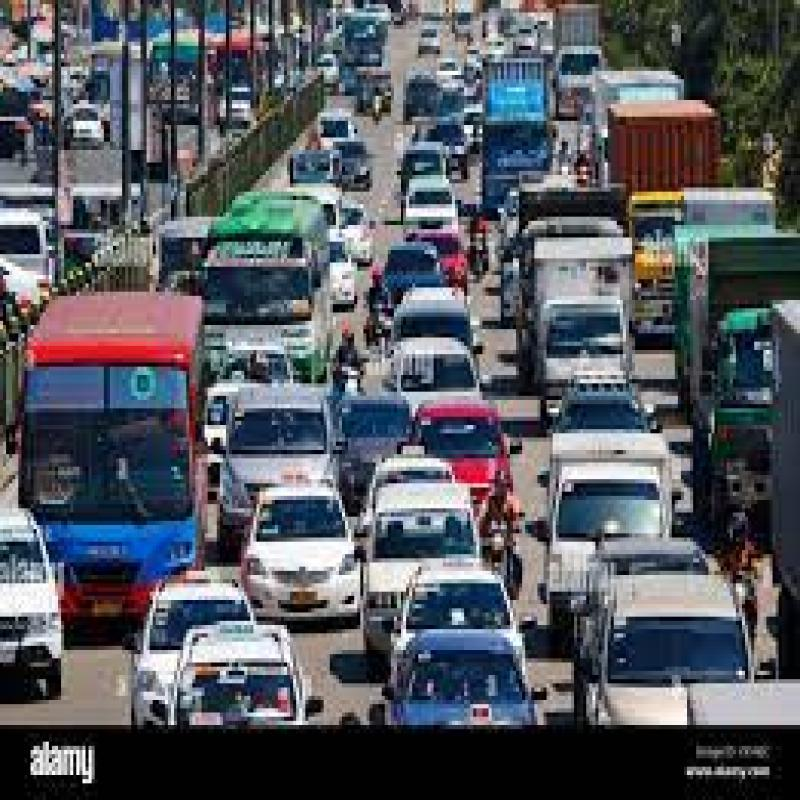car: (592, 535, 773, 778), (231, 467, 391, 643), (124, 572, 273, 747), (252, 483, 364, 665), (539, 473, 682, 608), (541, 377, 671, 512), (359, 490, 475, 625), (219, 395, 338, 515)
